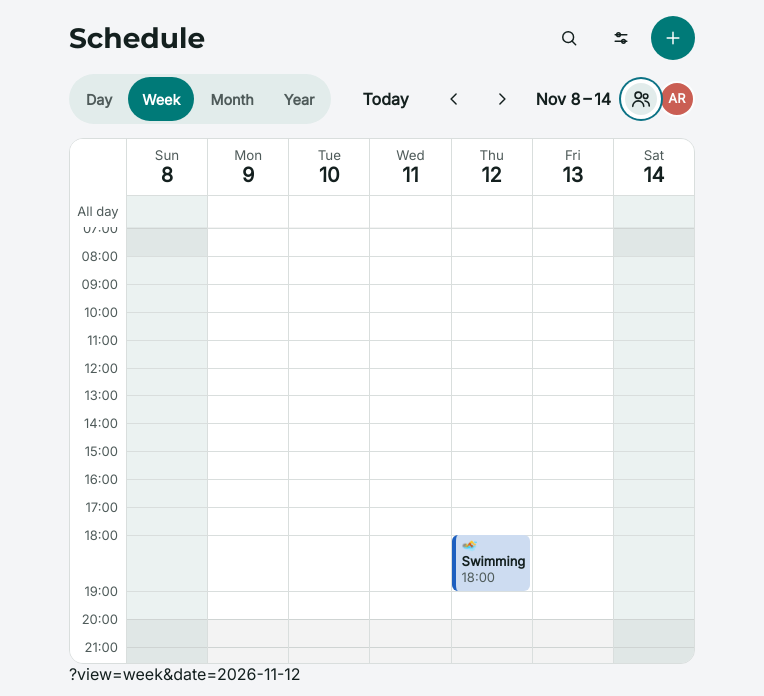
Test: SchedulePage navigation › changing the view updates the URL
(page scrolled)
Expected: the text "Swimming" is shown, [462,553,525,569]
Click the radio button labelled "Day" at (99, 99), box [72,77,126,121]
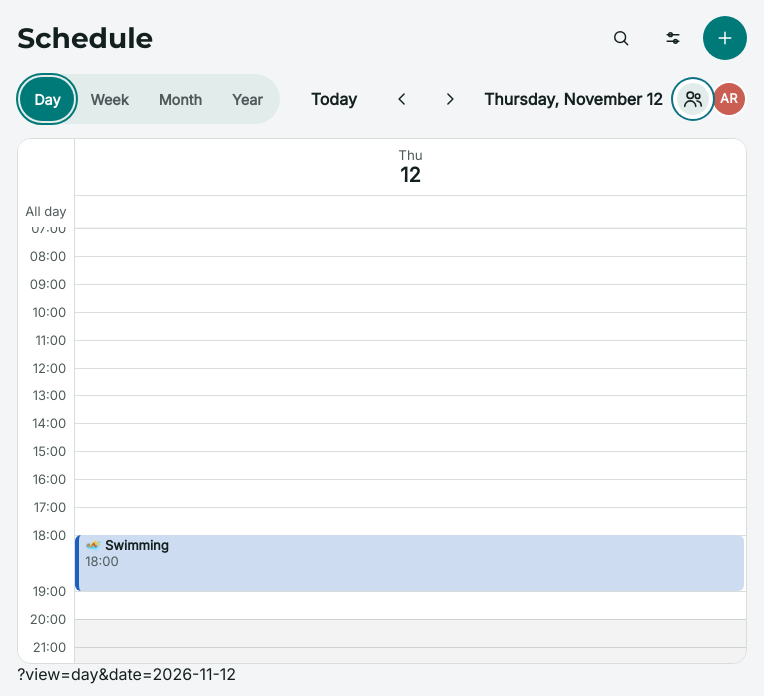
Now the text with test id "url" shows "view=day", box [17,664,236,684]
Click the radio button labelled "Week" at (110, 99), box [76,77,143,121]
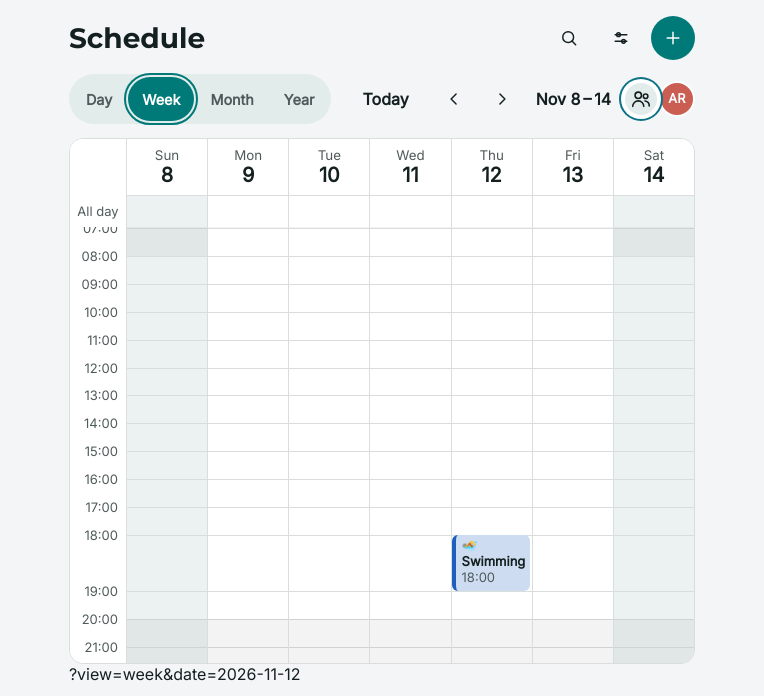
Now the text with test id "url" shows "view=week", box [69,664,300,684]
